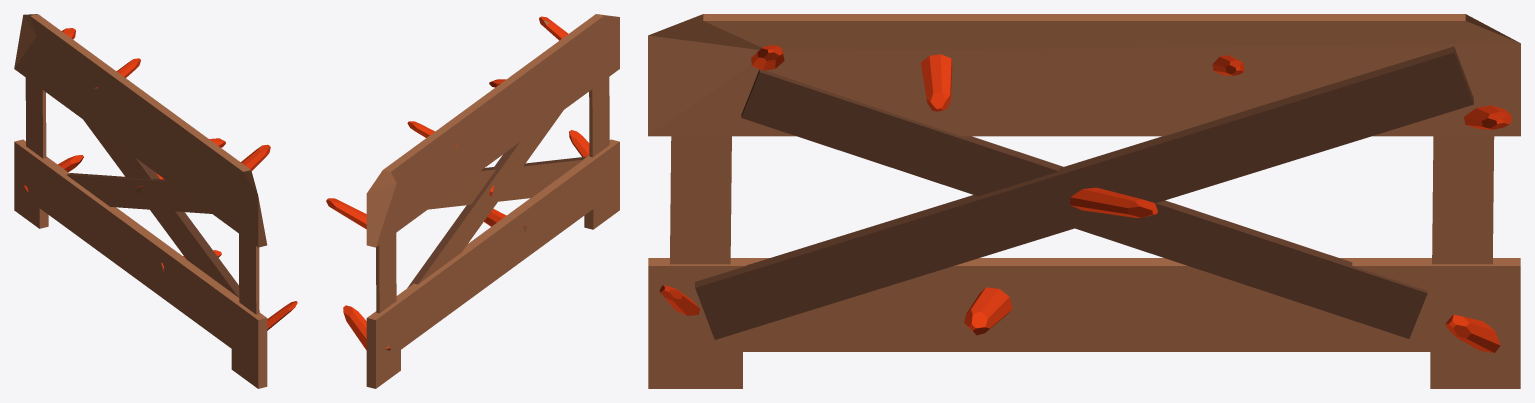
The model's file is civili_engel.fbx.
The picture shows the model from 3 angles, left to right: view 1: azimuth 30°, elevation 25°; view 2: azimuth 150°, elevation 25°; view 3: azimuth 270°, elevation 25°; orthographic projection. The views are drawn at different scales.
Visible parts, largest first — view 1: Cube; view 2: Cube; view 3: Cube.
Boxes of the visible parts, x1,y1,x2,y2 form: Cube: (14, 14, 297, 388); Cube: (326, 14, 619, 388); Cube: (648, 14, 1520, 388).
Size of the model in its own units: 178 by 474 by 1009.
